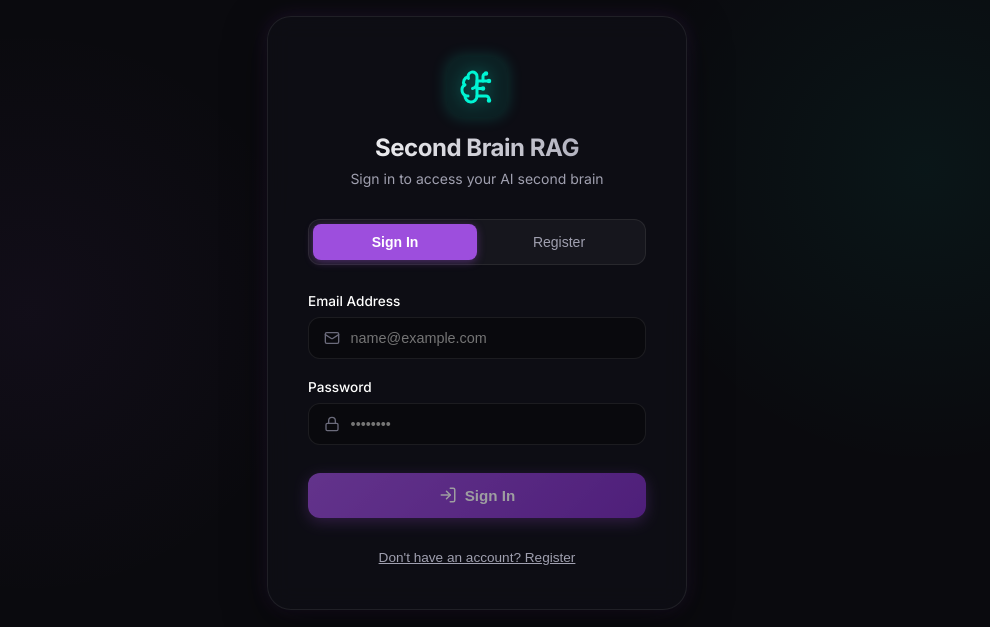
Scenario: AuthScreen › toggles between Sign In and Register modes
This screenshot has width=990, height=627.
Click the tab "Register".
click(559, 242)  # box [477, 224, 641, 260]
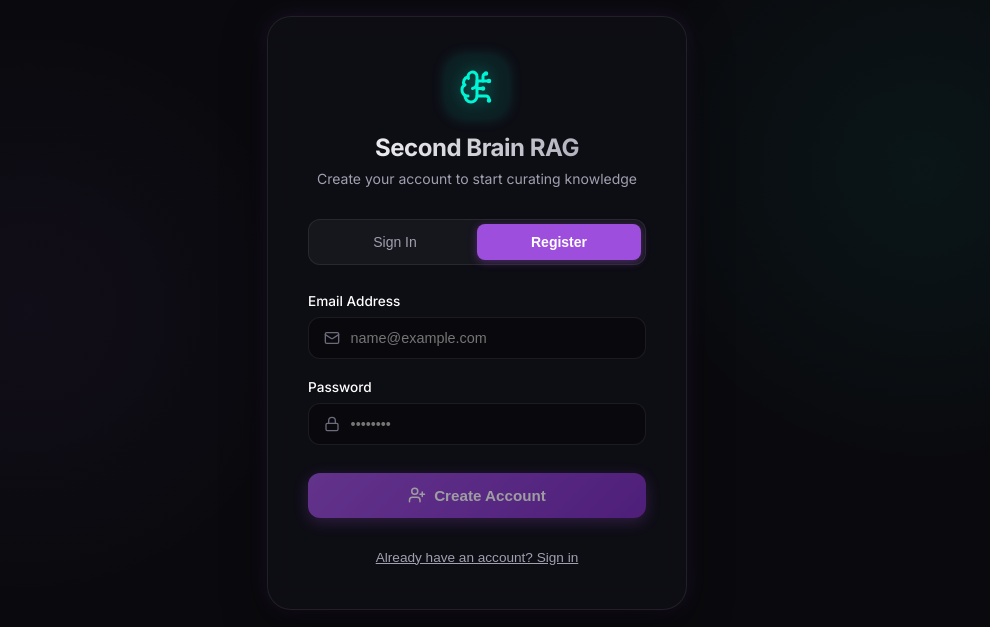
expect the text "Create your account to start curating knowledge" is shown: met, box [308, 170, 646, 187]
expect the button "Create Account" is shown: met, box [308, 472, 646, 518]
Click the tab "Sign In".
click(395, 242)  # box [313, 224, 477, 260]
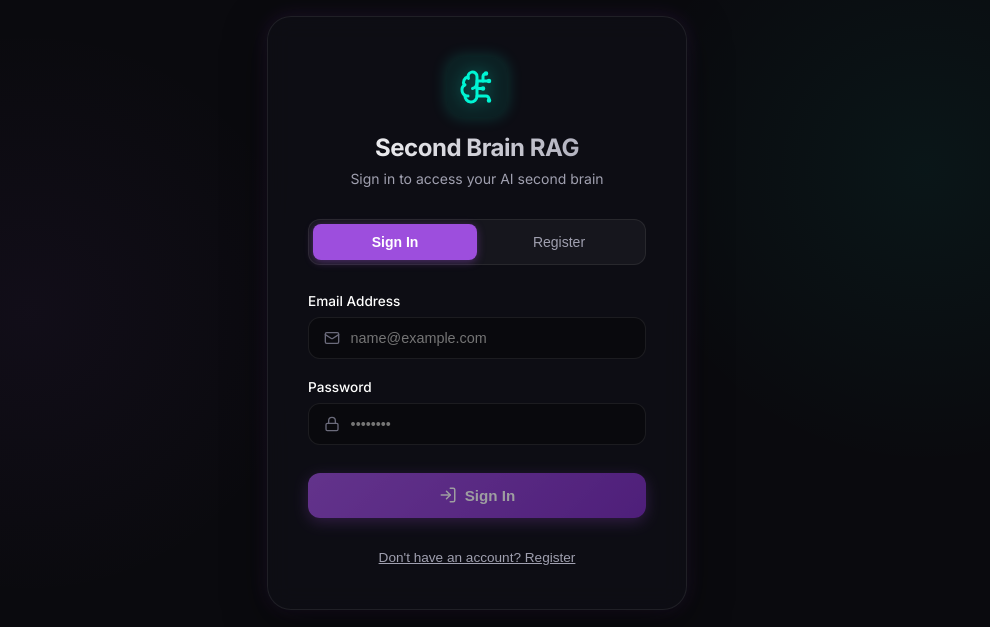
expect the text "Sign in to access your AI second brain" is shown: met, box [350, 170, 604, 187]
expect the button "Sign In" is shown: met, box [308, 472, 646, 518]
